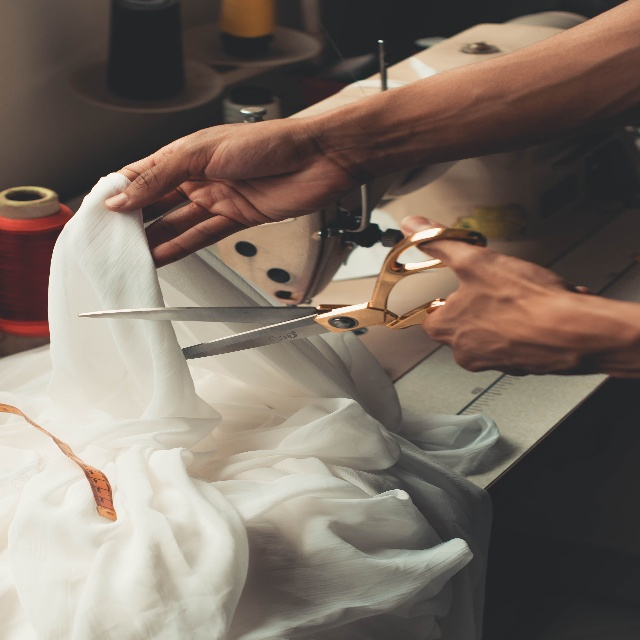Sin_guantes: (105, 122, 351, 269), (399, 214, 574, 378)
